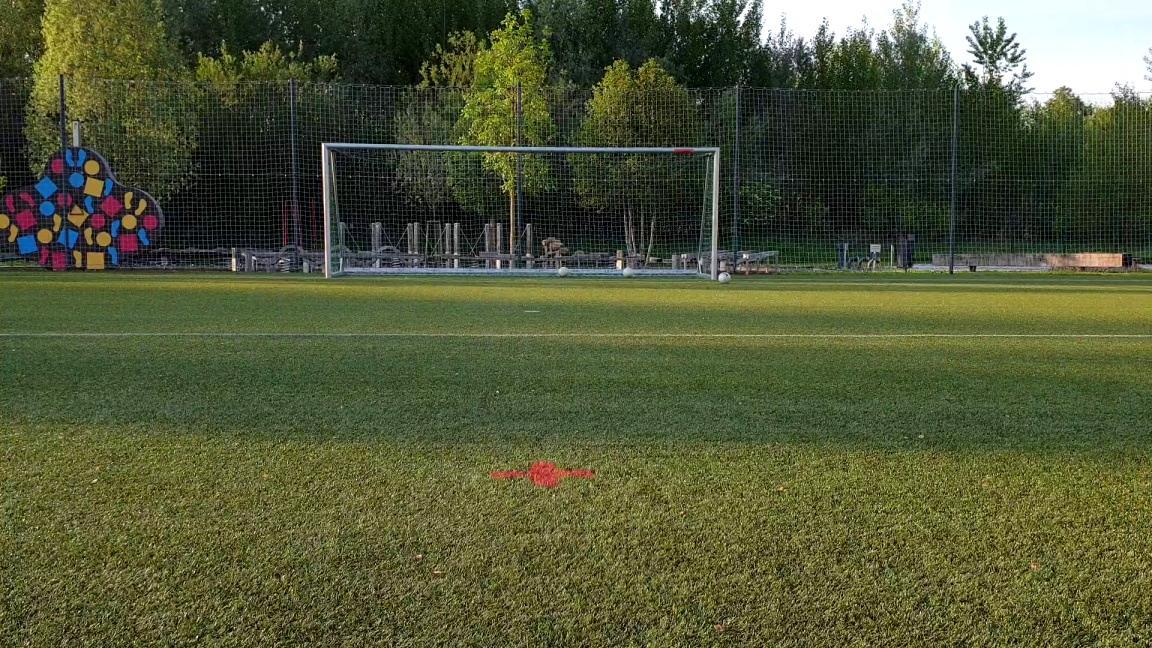ball: (716, 271, 732, 287), (621, 266, 637, 279), (557, 265, 570, 279)
